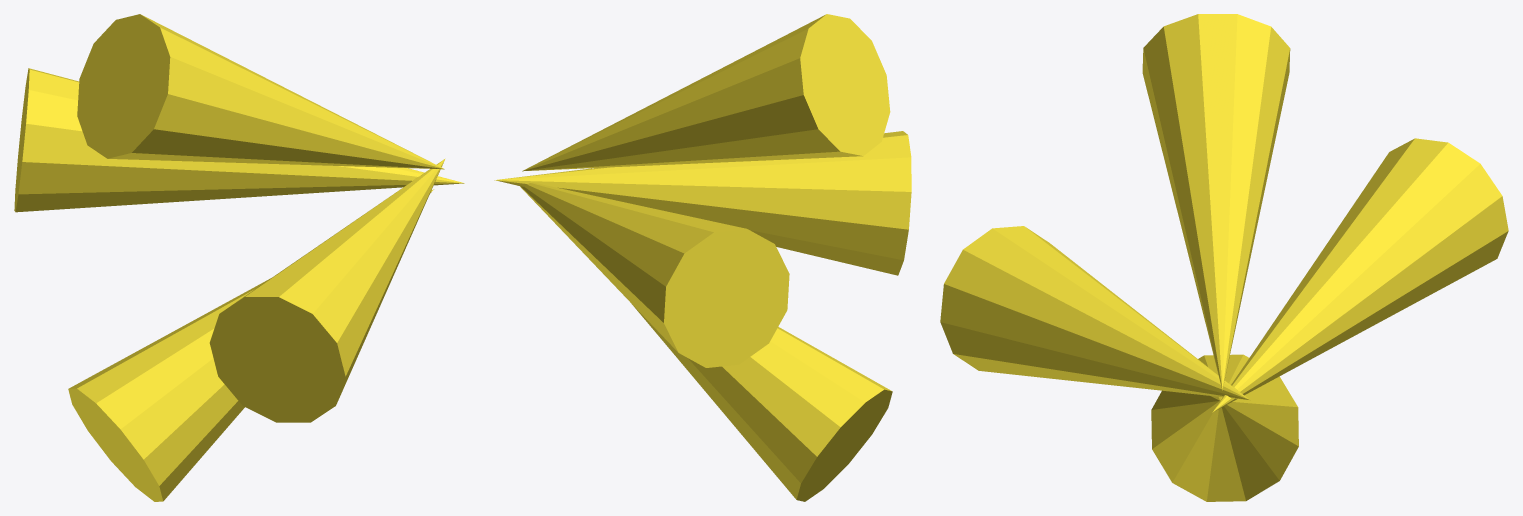
Rendered from AK47 - Muzzle Flash.obj.
3 views of the same model, side by side, from view 1: azimuth 30°, elevation 25°; view 2: azimuth 150°, elevation 25°; view 3: azimuth 270°, elevation 25° (orthographic). The views are drawn at different scales.
Parts seen in each view (by area): view 1: group468475709, group205876905, group991733189, group1207380142; view 2: group468475709, group205876905, group991733189, group1207380142; view 3: group468475709, group991733189, group205876905, group1207380142.
Part boxes in pixels (x1,y1,x2,y2): group468475709: (77, 14, 444, 169); group205876905: (209, 158, 445, 422); group991733189: (14, 68, 464, 212); group1207380142: (68, 189, 433, 501); group468475709: (522, 14, 890, 171); group205876905: (494, 131, 911, 275); group991733189: (520, 182, 789, 367); group1207380142: (632, 304, 892, 501); group468475709: (1142, 14, 1290, 390); group991733189: (1212, 138, 1508, 412); group205876905: (940, 226, 1249, 399); group1207380142: (1151, 354, 1298, 501).
Bounding box in the file's own units: 0.145 × 0.1772 × 0.1868.
